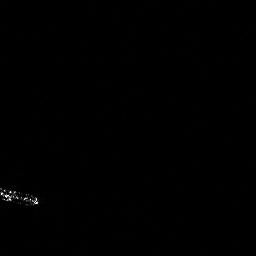ship: (1, 186, 39, 207)
